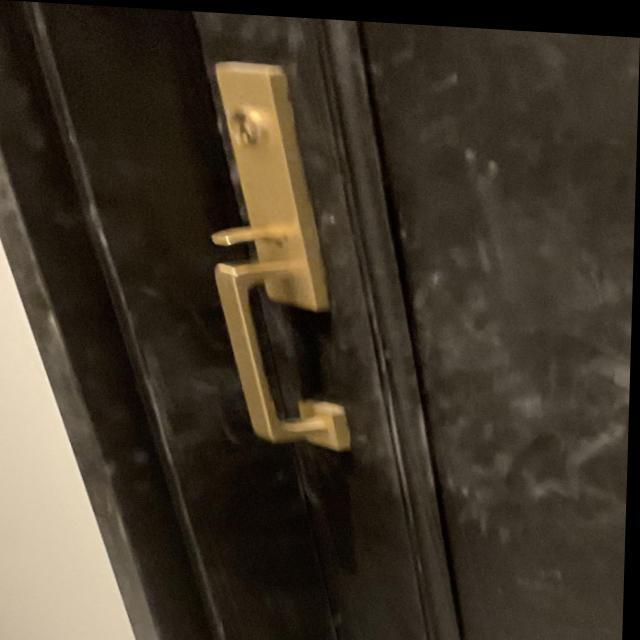door_handle: (189, 251, 374, 452)
